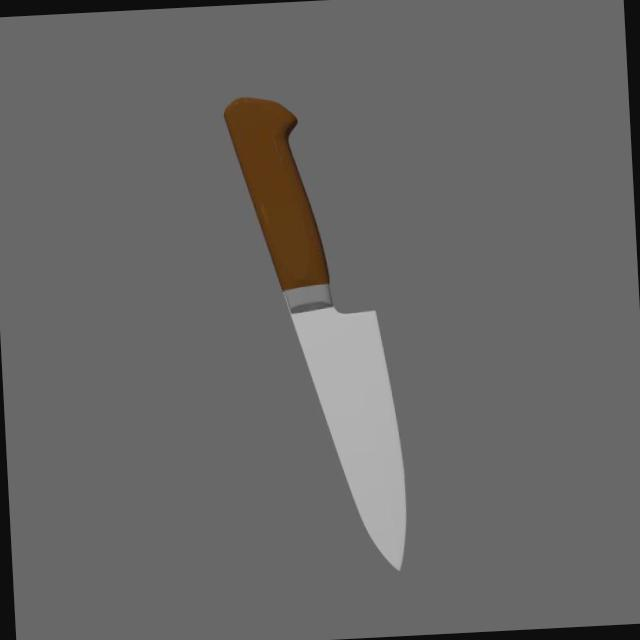knife: (222, 93, 330, 294)
